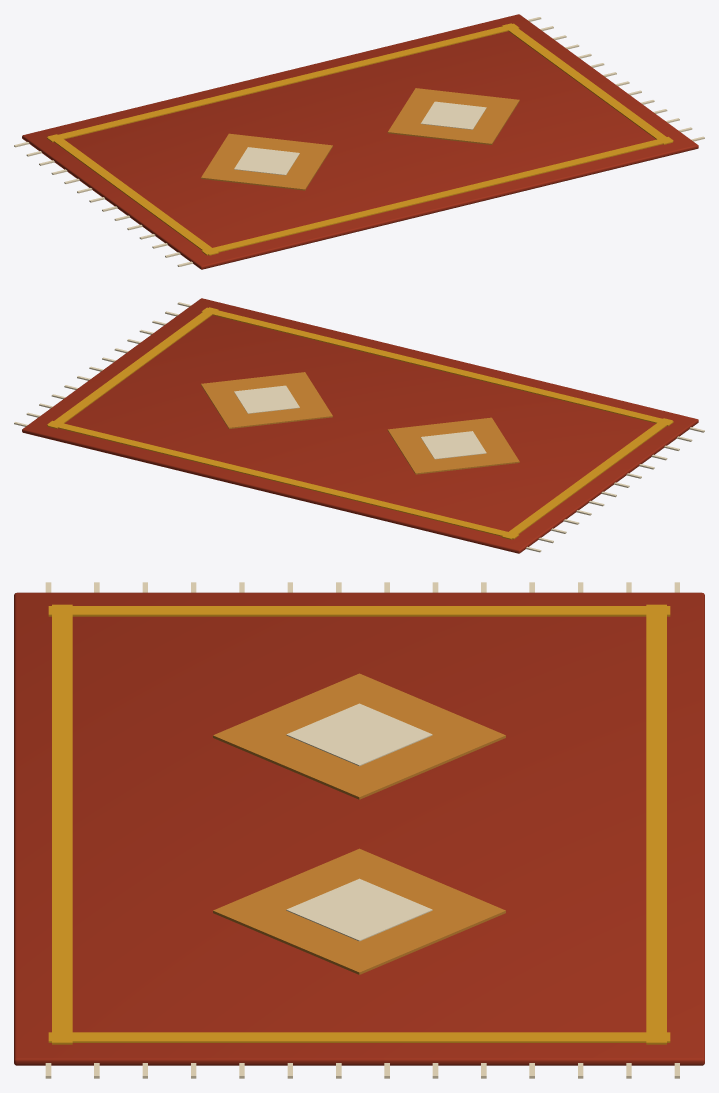
The model's file is rug.glb.
The picture shows the model from 3 angles, top to bottom: view 1: azimuth 30°, elevation 25°; view 2: azimuth 150°, elevation 25°; view 3: azimuth 270°, elevation 25°; orthographic projection. The views are drawn at different scales.
Visible parts, largest first — view 1: rug; view 2: rug; view 3: rug.
Part boxes in pixels (bbox=[...]): rug: bbox=[14, 14, 704, 269]; rug: bbox=[14, 298, 704, 553]; rug: bbox=[14, 582, 704, 1078].
Size of the model in its own units: 1.69 by 0.0175 by 1.
